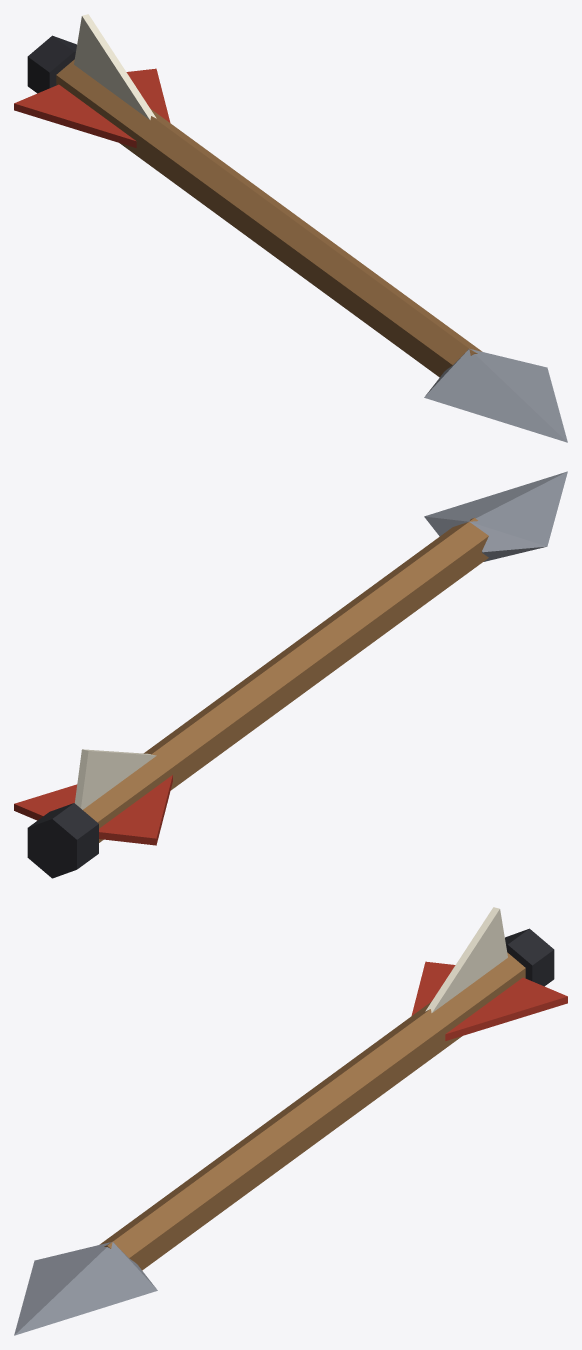
File: proj_arrow.glb
3 views of the same model, one above another, from view 1: azimuth 30°, elevation 25°; view 2: azimuth 150°, elevation 25°; view 3: azimuth 330°, elevation 25° (orthographic).
Visible parts, largest first — view 1: proj_arrow; view 2: proj_arrow; view 3: proj_arrow.
Part boxes in pixels (x1,y1,x2,y2): proj_arrow: (14,14,567,442); proj_arrow: (14,471,567,878); proj_arrow: (14,907,567,1335).
Bounding box in the file's own units: 0.15 × 0.105 × 0.94.
